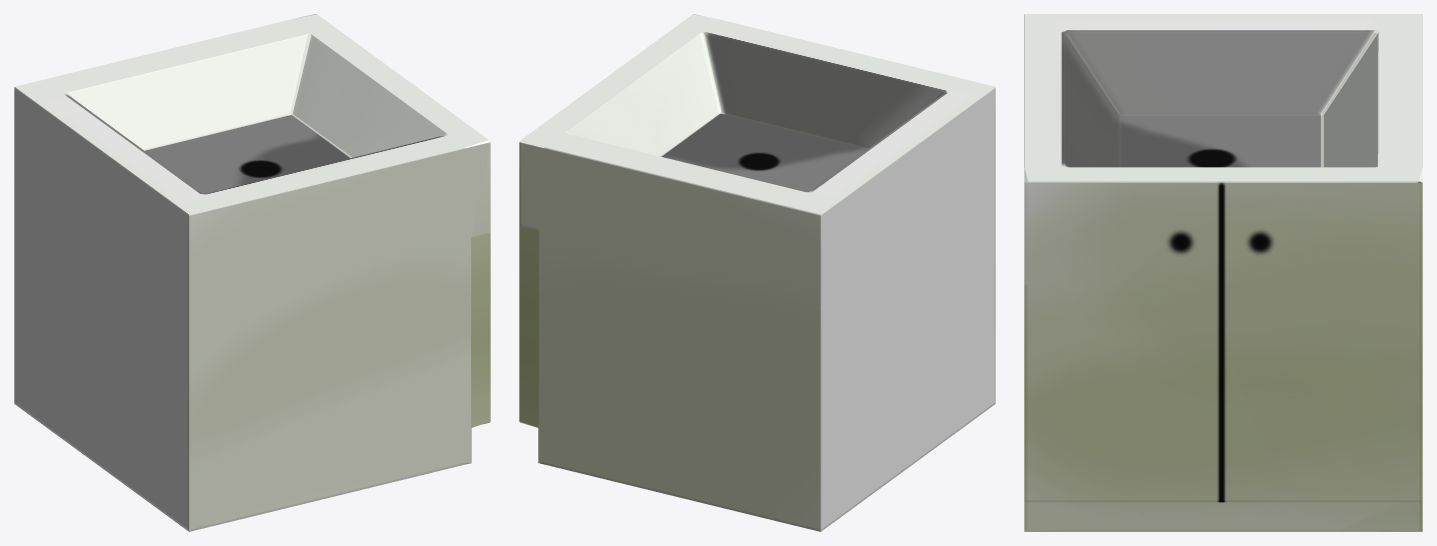
Rendered from Sink.fbx.
3 views of the same model, side by side, from view 1: azimuth 30°, elevation 25°; view 2: azimuth 150°, elevation 25°; view 3: azimuth 270°, elevation 25° (orthographic). The views are drawn at different scales.
Parts seen in each view (by area): view 1: Cube; view 2: Cube; view 3: Cube.
Boxes of the visible parts, x1,y1,x2,y2 form: Cube: (14, 14, 490, 531); Cube: (519, 14, 995, 531); Cube: (1024, 14, 1422, 531).
Size of the model in its own units: 199 by 200 by 200.
